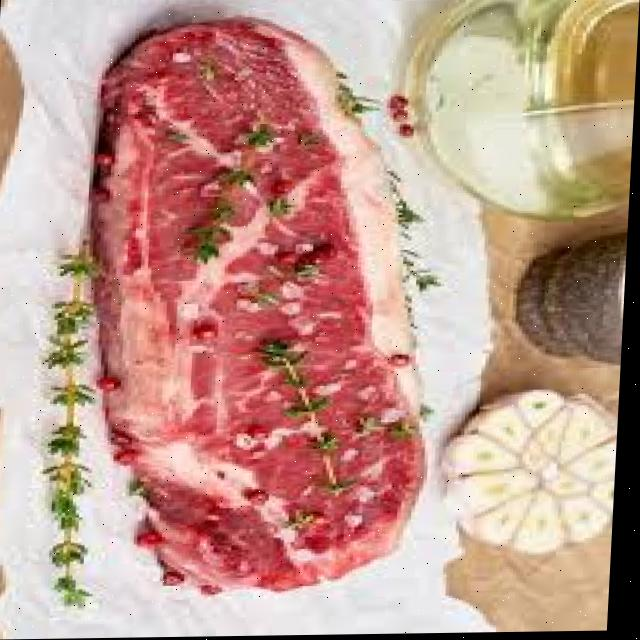Wet: (84, 15, 446, 600), (442, 378, 624, 557)
